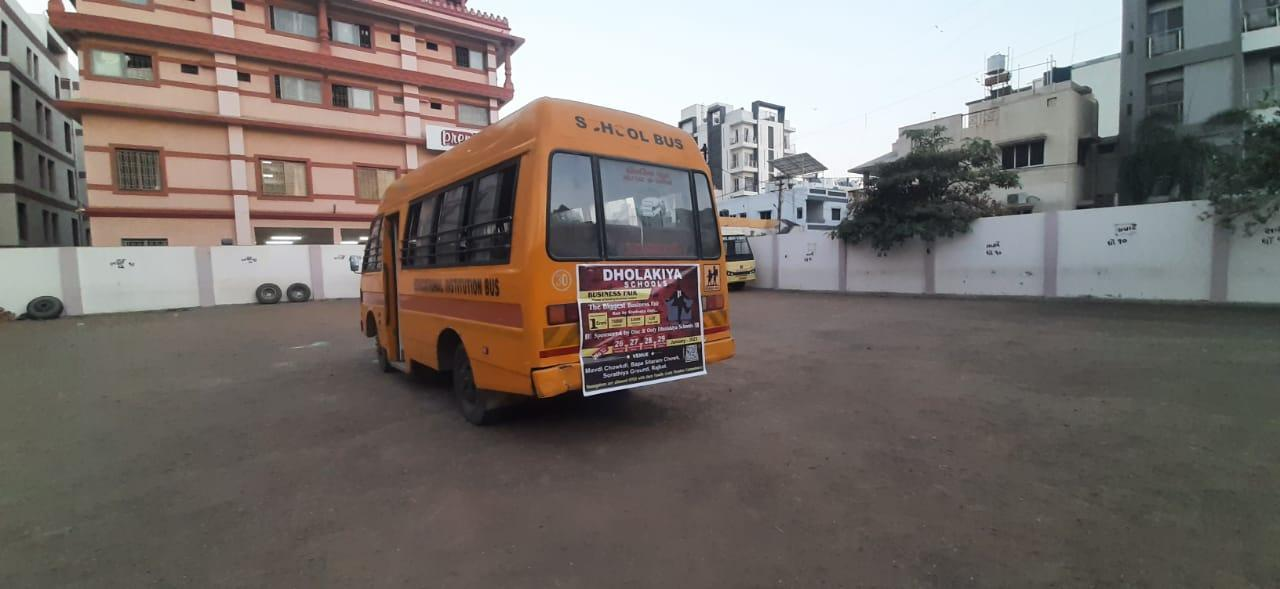Bus: (353, 90, 743, 430), (712, 229, 770, 294)
